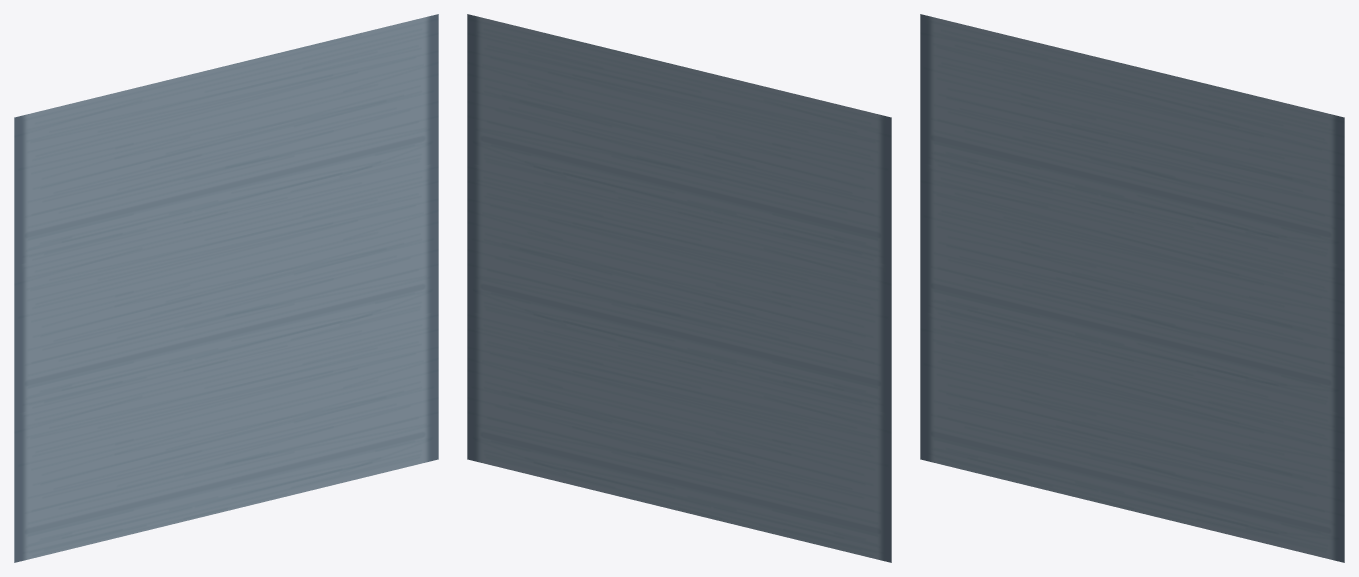
Rendered from garage_door.gltf.
3 views of the same model, side by side, from view 1: azimuth 30°, elevation 25°; view 2: azimuth 150°, elevation 25°; view 3: azimuth 330°, elevation 25° (orthographic).
Visible parts, largest first — view 1: Garage Door; view 2: Garage Door; view 3: Garage Door.
Part boxes in pixels (box(x1,y1,x2,y2)): Garage Door: box(14, 14, 438, 562); Garage Door: box(467, 14, 891, 562); Garage Door: box(920, 14, 1344, 562).
Size of the model in its own units: 4.65 by 4.66 by 0.
1 material, 1 textured.
